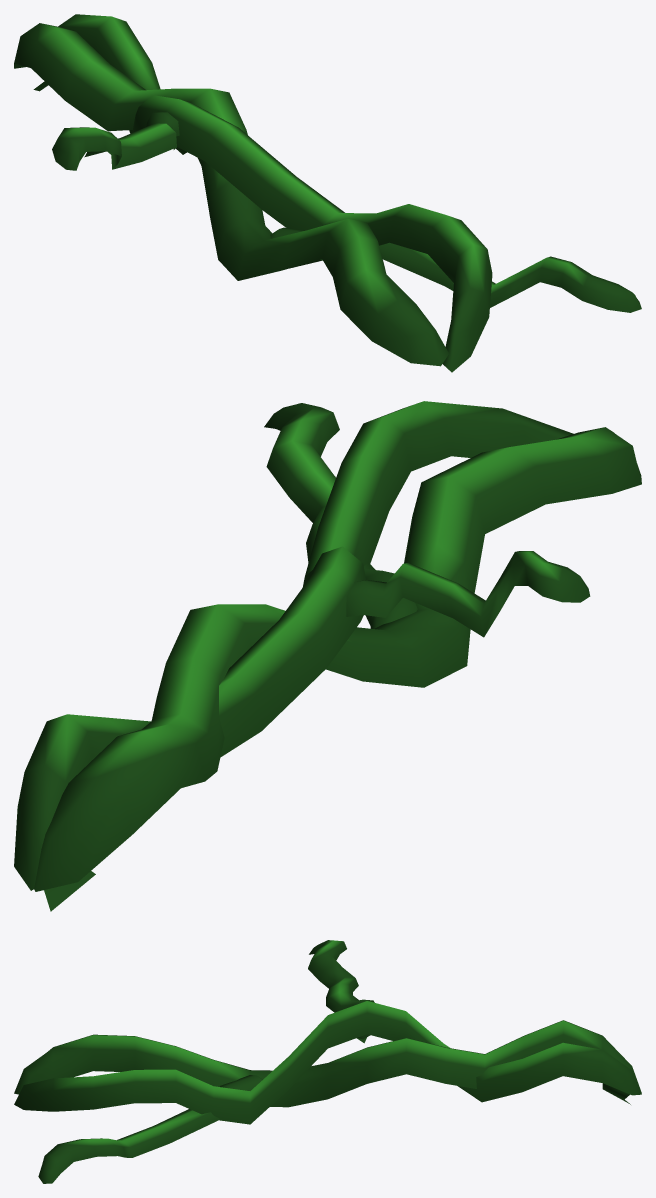
The model's file is vine4.fbx.
3 renders of one model, top to bottom at view 1: azimuth 30°, elevation 25°; view 2: azimuth 150°, elevation 25°; view 3: azimuth 270°, elevation 25°, orthographic. The views are drawn at different scales.
Visible parts, largest first — view 1: pCube91; view 2: pCube91; view 3: pCube91.
Part boxes in pixels (bbox=[...]): pCube91: bbox=[14, 14, 641, 372]; pCube91: bbox=[14, 401, 641, 911]; pCube91: bbox=[14, 940, 641, 1183].
Bounding box in the file's own units: 55.6 × 18.82 × 97.75.
